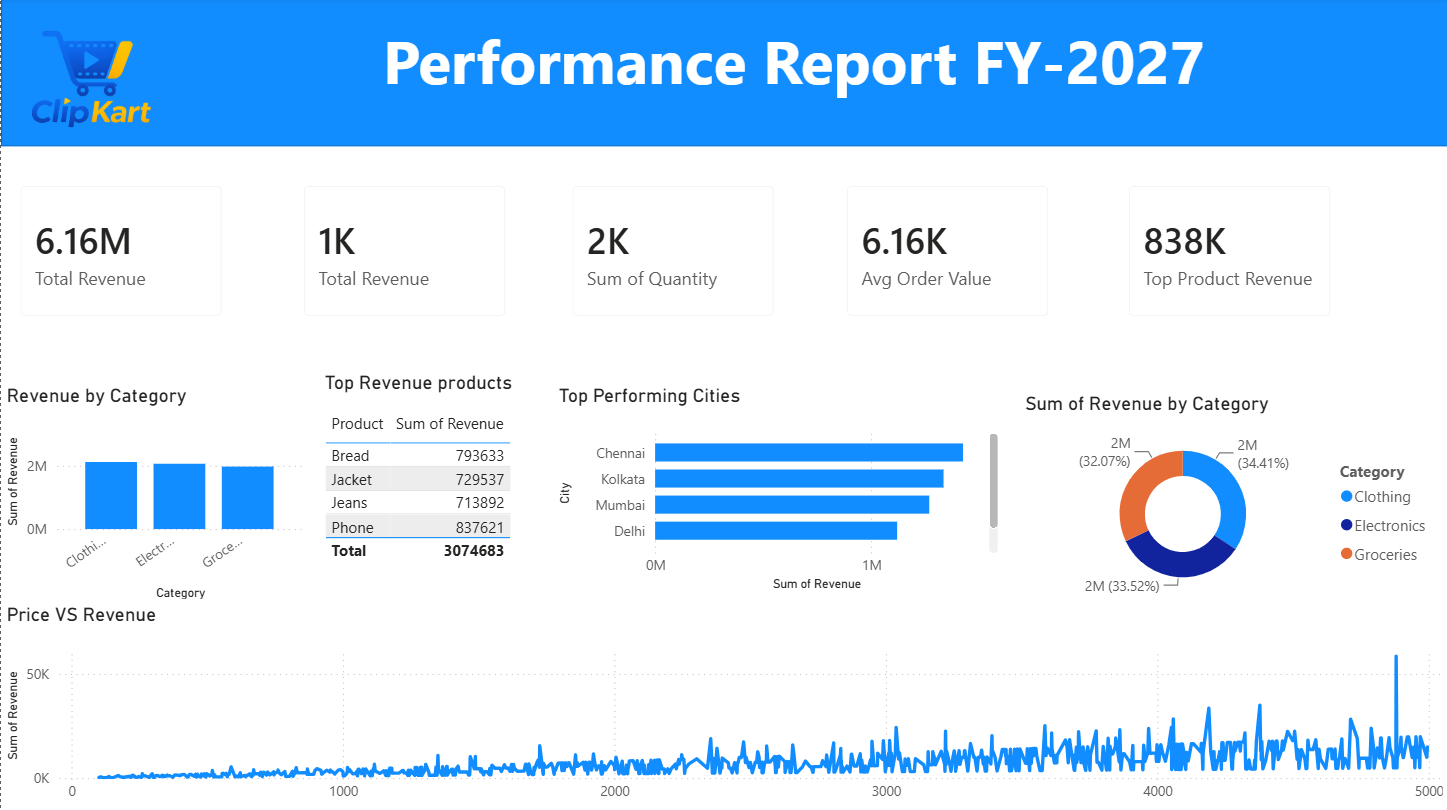

The page's visual inventory and layout, read from the dashboard file:
{"tool":"powerbi","page":{"name":"Executive Overview","canvas":[1280,720],"ordinal":0},"visuals":[{"type":"shape","box":[0,0,1273.7,112.8],"z":0},{"type":"image","box":[0,0,153.9,112.8],"z":1000},{"type":"textbox","box":[153.9,0,1099.9,112.8],"z":2000},{"type":"cardVisual","fields":{"Data":["Sum(harrykart_ecommerce_data.Revenue)"]},"box":[0,112.8,212.3,111.5],"z":3000},{"type":"lineChart","title":"Monthly Revenue Trend – 2024","fields":{"Y":["Sum(harrykart_ecommerce_data.Revenue)"],"Category":["harrykart_ecommerce_data.Date.Variation.Date Hierarchy.Month"]},"box":[0,534,1280,186.3],"z":4000},{"type":"columnChart","title":"Revenue by Category","fields":{"Category":["harrykart_ecommerce_data.Category"],"Y":["Sum(harrykart_ecommerce_data.Revenue)"]},"box":[4.7,311.9,203,217.6],"z":5000},{"type":"clusteredBarChart","title":"Top Products by Revenue","fields":{"Category":["harrykart_ecommerce_data.Product"],"Y":["Sum(harrykart_ecommerce_data.Revenue)"]},"box":[231.5,311.9,342.3,212.7],"z":6000},{"type":"cardVisual","fields":{"Data":["CountNonNull(harrykart_ecommerce_data.Revenue)"]},"box":[230.9,112.8,212.3,111.5],"z":7000},{"type":"cardVisual","fields":{"Data":["Sum(harrykart_ecommerce_data.Quantity)"]},"box":[473.7,112.8,200.3,111.5],"z":8000},{"type":"clusteredBarChart","title":"Revenue by City","fields":{"Category":["harrykart_ecommerce_data.City"],"Y":["Sum(harrykart_ecommerce_data.Revenue)"]},"box":[573.3,311.9,301.8,212.7],"z":9000},{"type":"cardVisual","fields":{"Data":["harrykart_ecommerce_data.Avg Order Value"]},"box":[755,112.8,218.9,111.5],"z":10000},{"type":"cardVisual","fields":{"Data":["harrykart_ecommerce_data.Top Product Revenue"]},"box":[1020.3,112.8,214.9,111.5],"z":11000},{"type":"advancedSlicerVisual","fields":{"Values":["harrykart_ecommerce_data.Category"]},"box":[0,214.7,439.5,87.1],"z":12000},{"type":"textSlicer","fields":{"Values":["harrykart_ecommerce_data.Date.Variation.Date Hierarchy.Month"]},"box":[844.6,214.7,409.1,83],"z":13000},{"type":"textSlicer","fields":{"Values":["harrykart_ecommerce_data.City"]},"box":[457.7,214.7,366.6,87.1],"z":14000},{"type":"columnChart","fields":{"Category":["harrykart_ecommerce_data.City"],"Y":["harrykart_ecommerce_data.Avg Order Value"]},"box":[877,311.9,397,222.8],"z":15000}]}

Visuals, with their boxes in screenshot pixels (x1, y1, x2, y2), scaled from the page's 1280x720 canvas onto the 1447x810 screenshot:
shape: left=0, top=0, right=1440, bottom=127
image: left=0, top=0, right=174, bottom=127
textbox: left=174, top=0, right=1417, bottom=127
cardVisual - Sum(harrykart_ecommerce_data.Revenue): left=0, top=127, right=240, bottom=252
"Monthly Revenue Trend – 2024" lineChart: left=0, top=601, right=1446, bottom=809
"Revenue by Category" columnChart: left=5, top=351, right=235, bottom=596
"Top Products by Revenue" clusteredBarChart: left=262, top=351, right=649, bottom=590
cardVisual - CountNonNull(harrykart_ecommerce_data.Revenue): left=261, top=127, right=501, bottom=252
cardVisual - Sum(harrykart_ecommerce_data.Quantity): left=536, top=127, right=762, bottom=252
"Revenue by City" clusteredBarChart: left=648, top=351, right=989, bottom=590
cardVisual - harrykart_ecommerce_data.Avg Order Value: left=854, top=127, right=1101, bottom=252
cardVisual - harrykart_ecommerce_data.Top Product Revenue: left=1153, top=127, right=1396, bottom=252
advancedSlicerVisual - harrykart_ecommerce_data.Category: left=0, top=242, right=497, bottom=340
textSlicer - harrykart_ecommerce_data.Date.Variation.Date Hierarchy.Month: left=955, top=242, right=1417, bottom=335
textSlicer - harrykart_ecommerce_data.City: left=517, top=242, right=932, bottom=340
columnChart - harrykart_ecommerce_data.City x harrykart_ecommerce_data.Avg Order Value: left=991, top=351, right=1440, bottom=602
